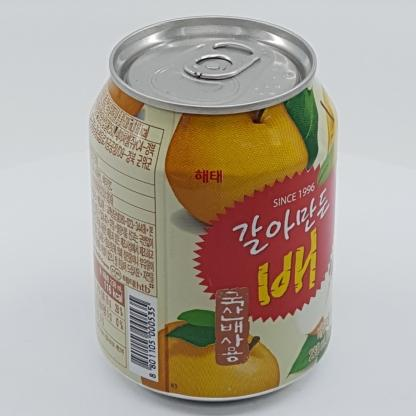-------238ML: (89, 16, 338, 402)
